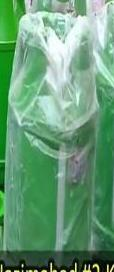cylinder: (1, 1, 114, 272)
